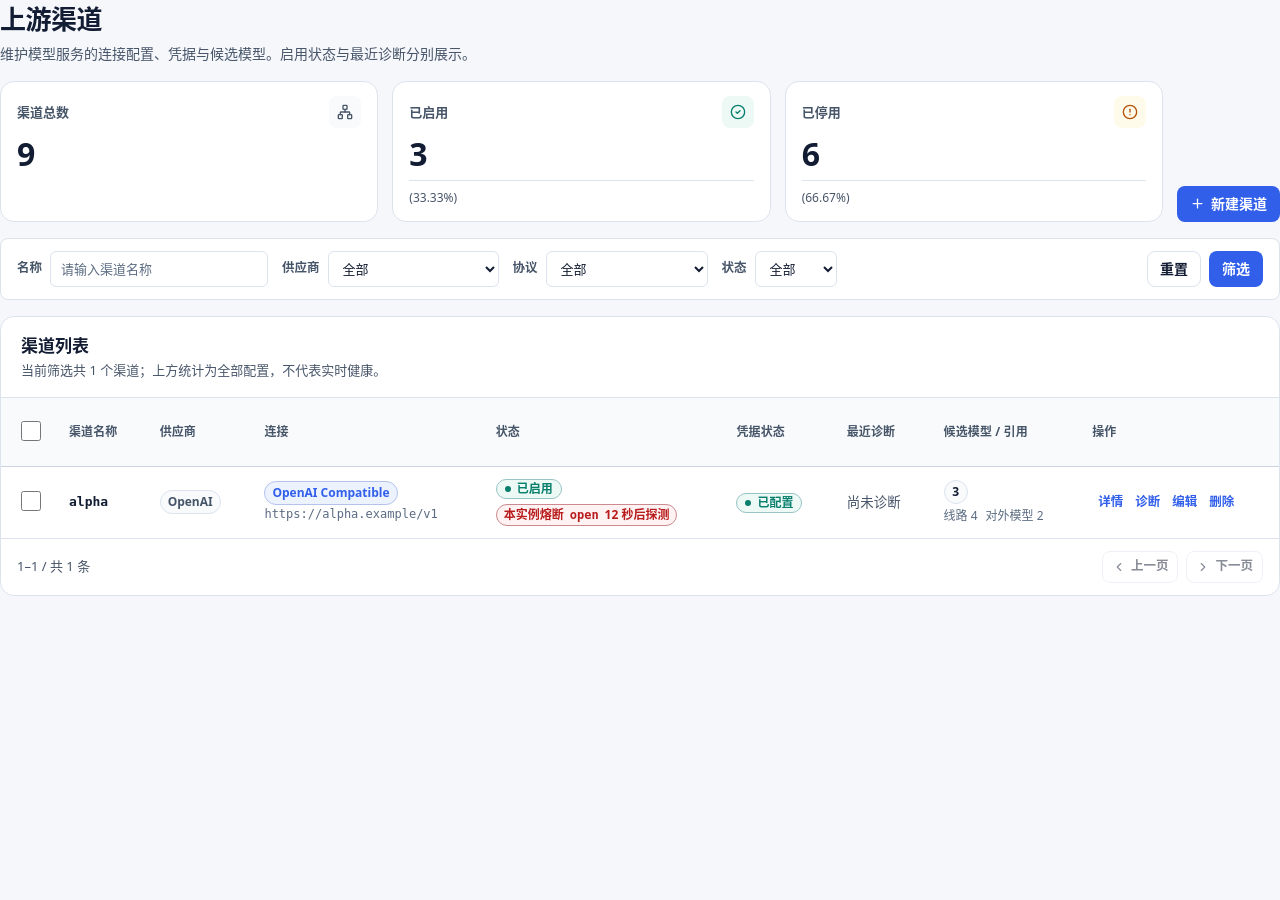
ProvidersPage channel facts › shows the circuit state and dependency counts in the channel drawer
Click the button "详情" at (1111, 502), box [1092,489,1129,516]
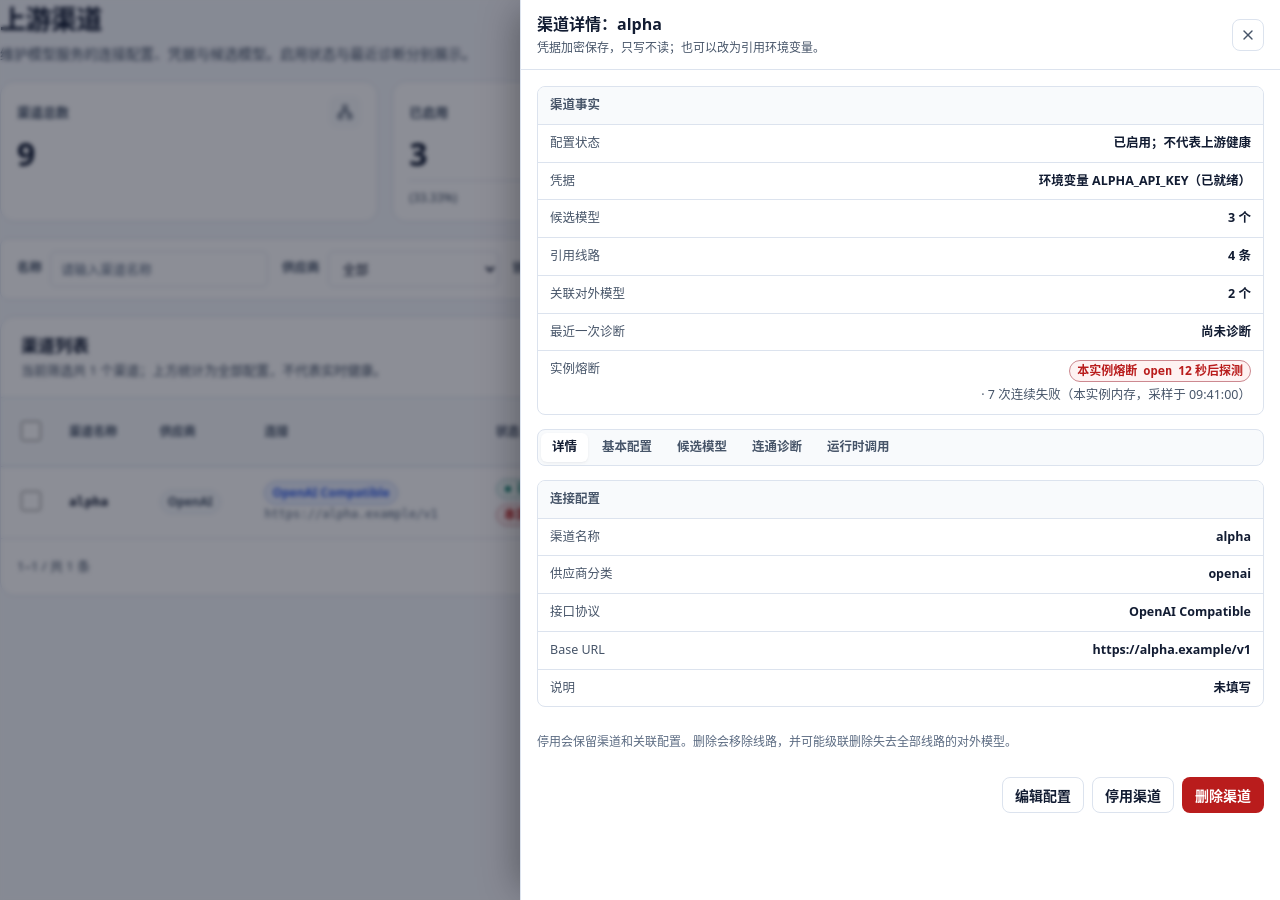
Check: the heading "渠道事实" is shown, box [538,87,1263,125]
Check: the text "引用线路" is shown, box [550,247,600,264]
Check: the text "4 条" is shown, box [1228,247,1251,264]
